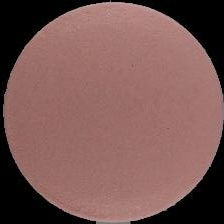50090-1470: (0, 0, 224, 224)
